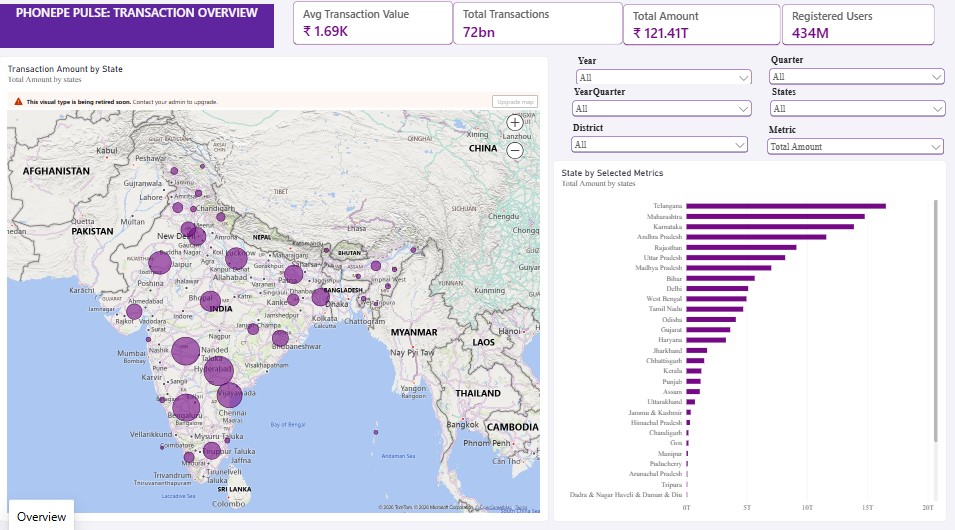

Layout of this report page (visuals, bound fields, positions):
{"tool":"powerbi","page":{"name":"Overview","canvas":[1920,1080],"ordinal":0},"visuals":[{"type":"map","title":"Transaction Amount  by State","fields":{"Category":["DimState.country","DimState.states"],"Size":["aggregated_transaction.Total Amount"]},"box":[0,119.1,1099.1,931.2],"z":0},{"type":"cardVisual","fields":{"Data":["aggregated_transaction.Total Transactions"]},"box":[907.5,12.5,340,85],"z":1000},{"type":"cardVisual","fields":{"Data":["aggregated_transaction.Total Amount"]},"box":[1247.5,15,315,82.5],"z":2000},{"type":"cardVisual","fields":{"Data":["aggregated_transaction.Registered Users"]},"box":[1565,15,305,82.5],"z":3000},{"type":"cardVisual","fields":{"Data":["aggregated_transaction.Avg Transaction Value"]},"box":[587.5,10,320,87.5],"z":4000},{"type":"slicer","fields":{"Values":["DimTime.quarter"]},"box":[1535,115,360,65],"z":5000},{"type":"slicer","fields":{"Values":["DimState.states"]},"box":[1537.5,180,360,72.5],"z":6000},{"type":"slicer","fields":{"Values":["DimDistrict.district"]},"box":[1140,252.5,362.5,75],"z":7000},{"type":"slicer","fields":{"Values":["Metric.Metric"]},"box":[1532.5,255,362.5,75],"z":8000},{"type":"clusteredBarChart","title":"State by Selected Metrics","fields":{"Category":["DimState.states"],"Y":["aggregated_transaction.Total Amount"]},"box":[1107.6,327.4,786.6,722.8],"z":9000},{"type":"slicer","fields":{"Values":["DimTime.YearQuarter"]},"box":[1142.5,180,367.5,85],"z":10000},{"type":"slicer","fields":{"Values":["DimTime.year"]},"box":[1150,117.5,360,57.5],"z":11000},{"type":"textbox","box":[617.3,80.6,415.7,80.6],"z":12000},{"type":"textbox","box":[2.5,15,547.5,87.5],"z":13000}]}

Visuals, with their boxes in screenshot pixels (x1, y1, x2, y2), scaled from the page's 1920x1080 canvas onto the 955x530 screenshot:
"Transaction Amount  by State" map: {"left": 0, "top": 58, "right": 547, "bottom": 515}
cardVisual - aggregated_transaction.Total Transactions: {"left": 451, "top": 6, "right": 621, "bottom": 48}
cardVisual - aggregated_transaction.Total Amount: {"left": 621, "top": 7, "right": 777, "bottom": 48}
cardVisual - aggregated_transaction.Registered Users: {"left": 778, "top": 7, "right": 930, "bottom": 48}
cardVisual - aggregated_transaction.Avg Transaction Value: {"left": 292, "top": 5, "right": 451, "bottom": 48}
slicer - DimTime.quarter: {"left": 764, "top": 56, "right": 943, "bottom": 88}
slicer - DimState.states: {"left": 765, "top": 88, "right": 944, "bottom": 124}
slicer - DimDistrict.district: {"left": 567, "top": 124, "right": 747, "bottom": 161}
slicer - Metric.Metric: {"left": 762, "top": 125, "right": 943, "bottom": 162}
"State by Selected Metrics" clusteredBarChart: {"left": 551, "top": 161, "right": 942, "bottom": 515}
slicer - DimTime.YearQuarter: {"left": 568, "top": 88, "right": 751, "bottom": 130}
slicer - DimTime.year: {"left": 572, "top": 58, "right": 751, "bottom": 86}
textbox: {"left": 307, "top": 40, "right": 514, "bottom": 79}
textbox: {"left": 1, "top": 7, "right": 274, "bottom": 50}
